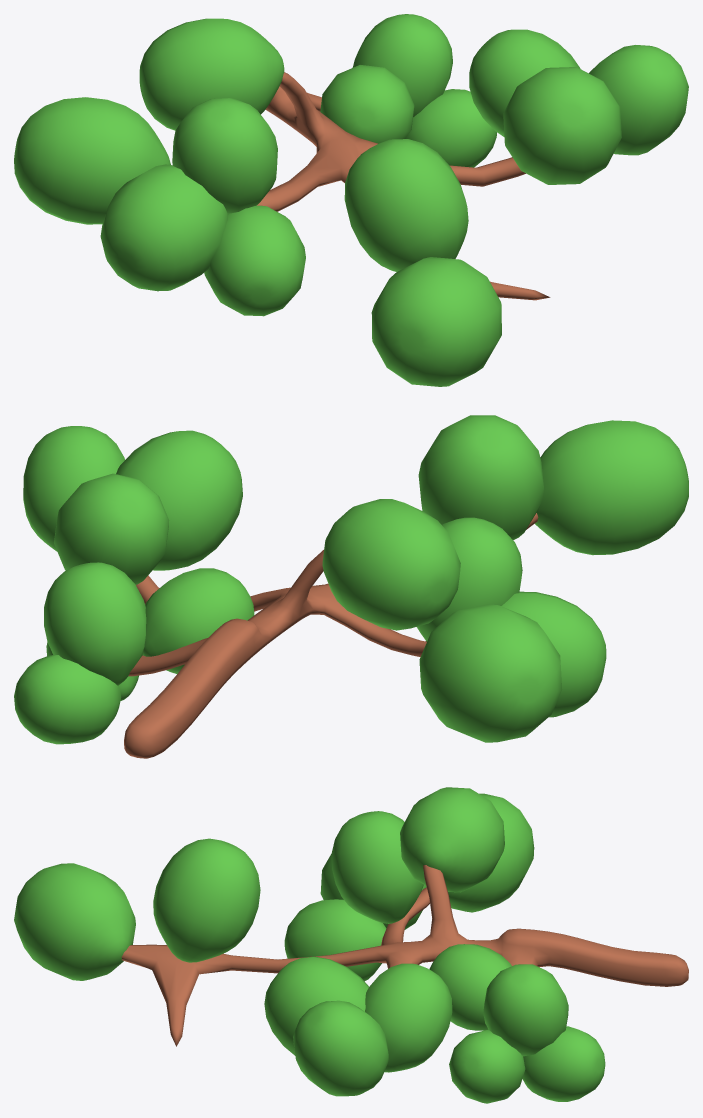
Rendered from Grape.fbx.
The picture shows the model from 3 angles, top to bottom: view 1: azimuth 30°, elevation 25°; view 2: azimuth 150°, elevation 25°; view 3: azimuth 270°, elevation 25°; orthographic projection. The views are drawn at different scales.
Visible parts, largest first — view 1: Sphere, Cube.011; view 2: Sphere, Cube.011; view 3: Sphere, Cube.011.
Boxes of the visible parts, left/top/right/bottom form: Sphere: left=14, top=14, right=688, bottom=386; Cube.011: left=257, top=72, right=550, bottom=300; Sphere: left=14, top=415, right=688, bottom=744; Cube.011: left=124, top=513, right=538, bottom=758; Sphere: left=14, top=787, right=605, bottom=1103; Cube.011: left=121, top=865, right=688, bottom=1046.
Size of the model in its own units: 1195 by 460 by 1392.
